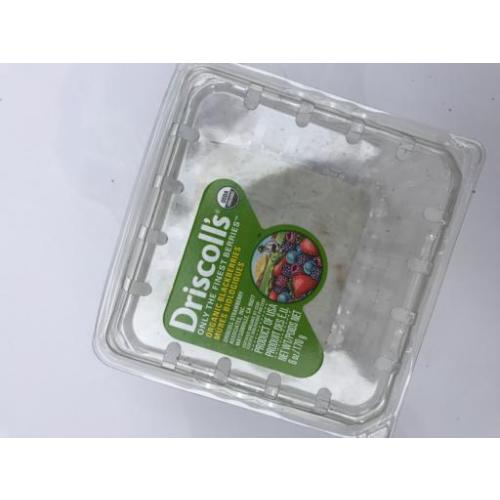plastic: (93, 64, 481, 439)
